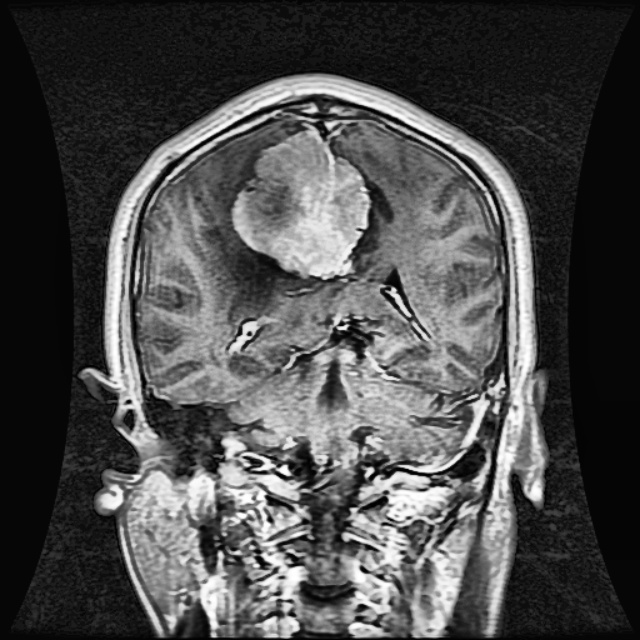Glioma: (232, 129, 369, 278)
